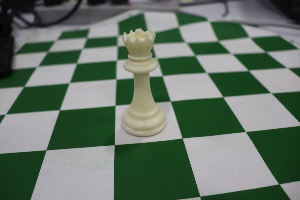white_queen: (111, 27, 169, 141)
